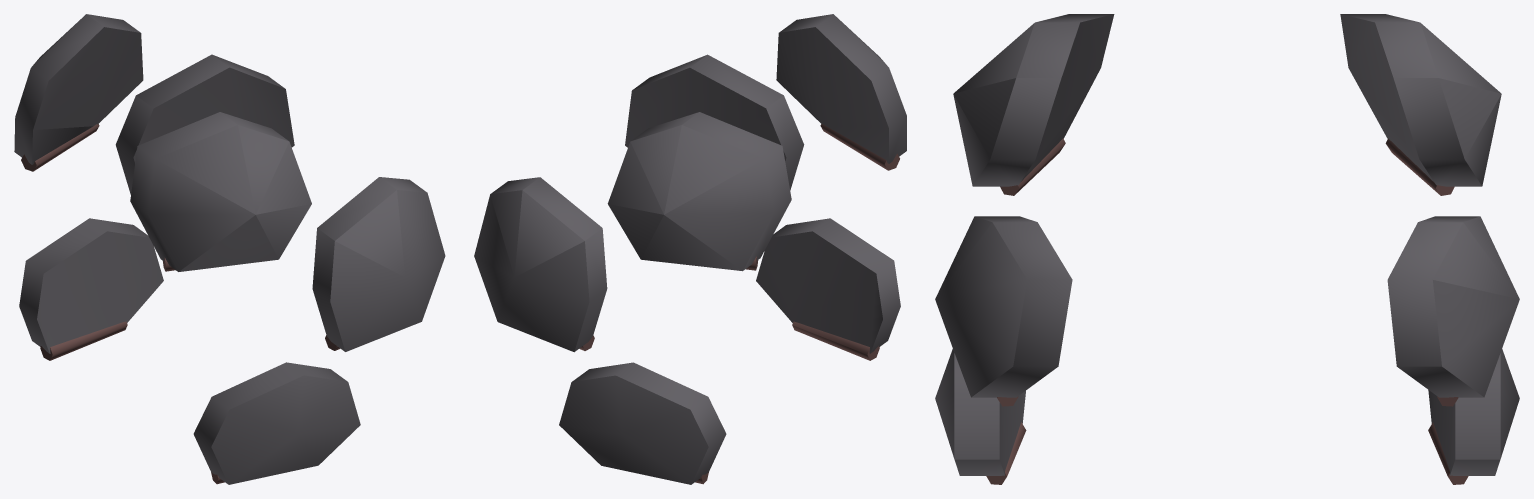
Rendered from implants_fat_plating.obj.
3 renders of one model, left to right at view 1: azimuth 30°, elevation 25°; view 2: azimuth 150°, elevation 25°; view 3: azimuth 270°, elevation 25°, orthographic. The views are drawn at different scales.
Parts seen in each view (by area): view 1: implants_fat_plating; view 2: implants_fat_plating; view 3: implants_fat_plating.
Boxes of the visible parts, <box> form: implants_fat_plating: <box>14,14,445,484</box>; implants_fat_plating: <box>474,14,906,484</box>; implants_fat_plating: <box>935,14,1519,484</box>.
Size of the model in its own units: 0.3825 by 0.4474 by 0.5426.
